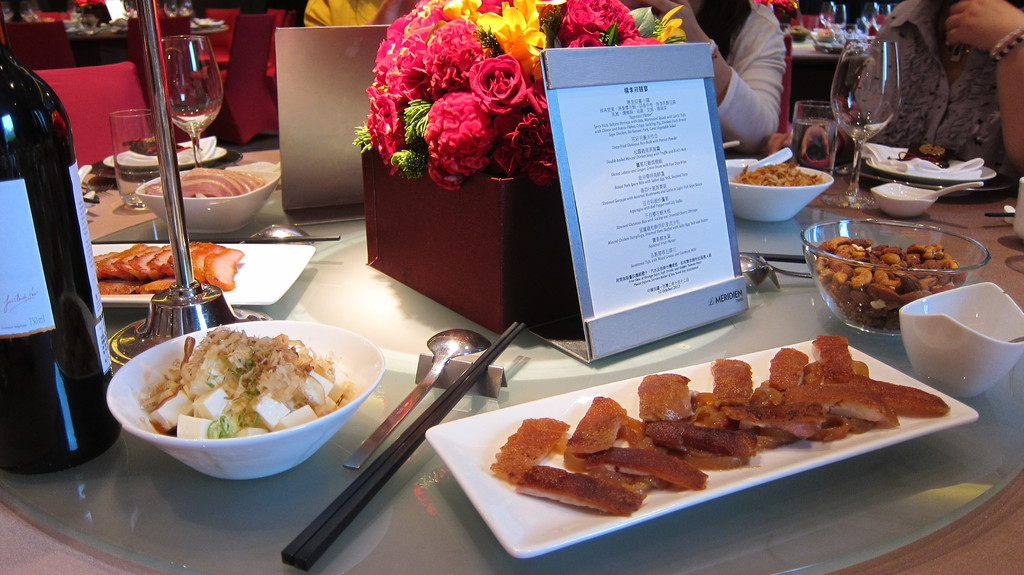Person: (798, 0, 1024, 179), (302, 0, 422, 28)
